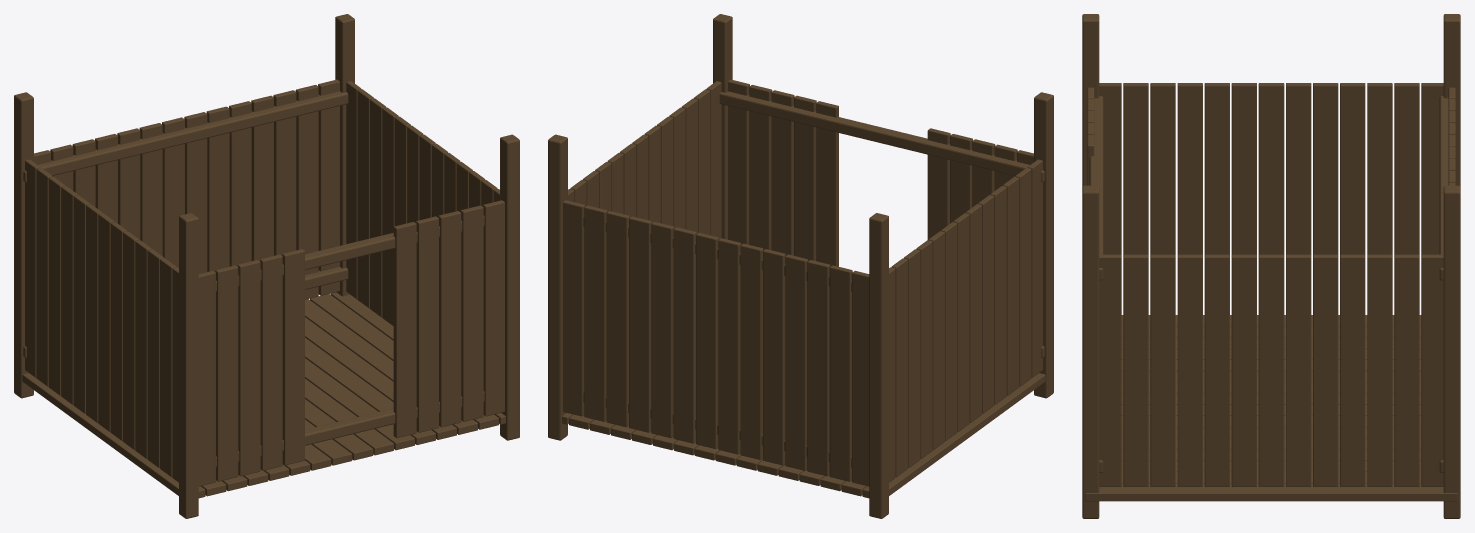
The model's file is TimberHut.fbx.
3 renders of one model, left to right at view 1: azimuth 30°, elevation 25°; view 2: azimuth 150°, elevation 25°; view 3: azimuth 270°, elevation 25°, orthographic. The views are drawn at different scales.
Parts seen in each view (by area): view 1: TimberHut; view 2: TimberHut; view 3: TimberHut.
Part boxes in pixels (left/top/right/bottom): TimberHut: left=14, top=14, right=519, bottom=518; TimberHut: left=548, top=14, right=1053, bottom=518; TimberHut: left=1082, top=14, right=1460, bottom=518.
Size of the model in its own units: 376 by 335 by 320.
